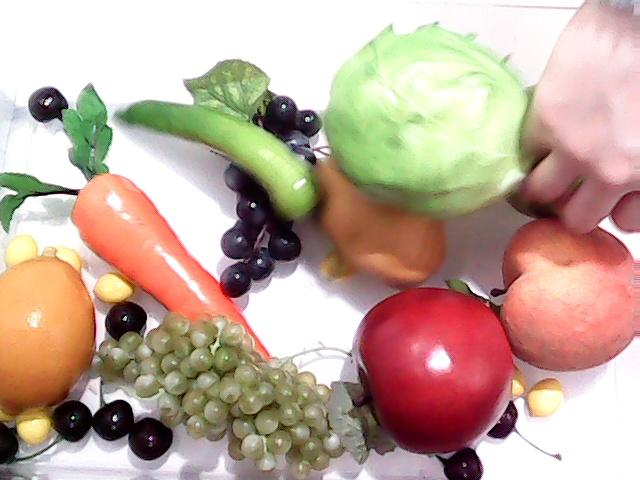apple: (351, 286, 517, 458)
cabbage: (318, 20, 542, 216)
carrot: (0, 82, 274, 360)
grape: (94, 312, 356, 480), (213, 94, 323, 298)
lemon: (0, 245, 104, 419)
peach: (490, 216, 640, 373)
pepper: (100, 89, 318, 230)
potato: (313, 159, 447, 289)
